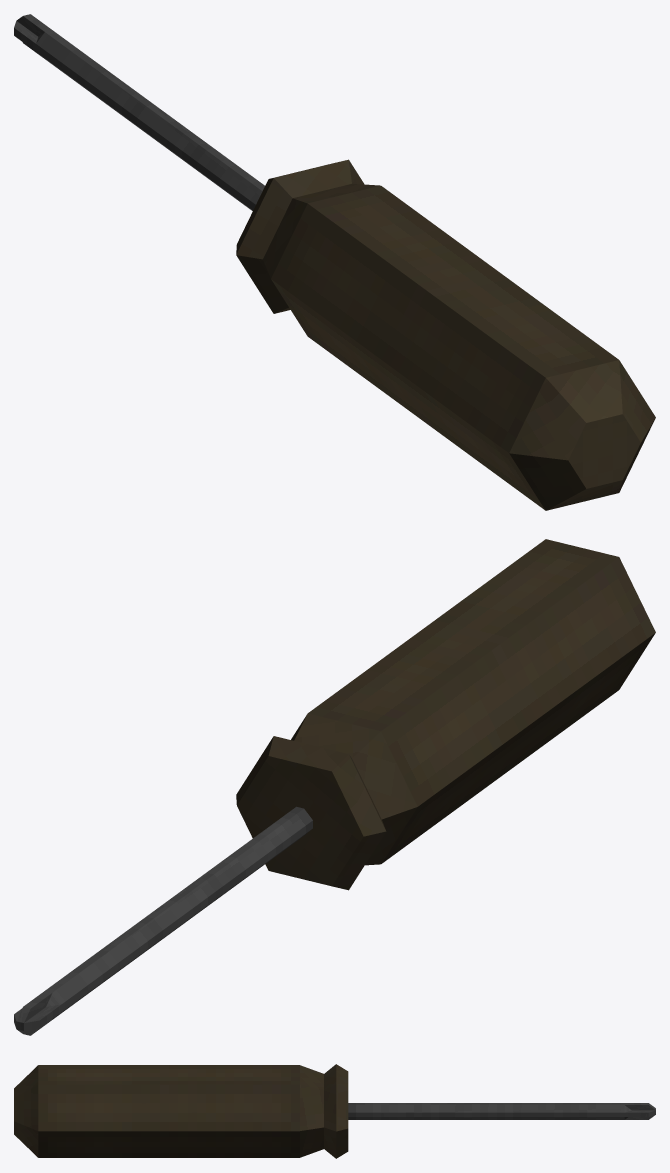
File: screwdriver_mp_2_2.glb
3 renders of one model, top to bottom at view 1: azimuth 30°, elevation 25°; view 2: azimuth 150°, elevation 25°; view 3: azimuth 270°, elevation 25°, orthographic. The views are drawn at different scales.
Parts seen in each view (by area): view 1: screwdriver_mp_2_2; view 2: screwdriver_mp_2_2; view 3: screwdriver_mp_2_2.
Boxes of the visible parts, box(x1,y1,x2,y2) form: screwdriver_mp_2_2: box(14, 14, 655, 510); screwdriver_mp_2_2: box(14, 539, 655, 1035); screwdriver_mp_2_2: box(14, 1064, 655, 1158).
Size of the model in its own units: 0.0393 by 0.034 by 0.265.
Materials: 1 (1 with a texture image).
